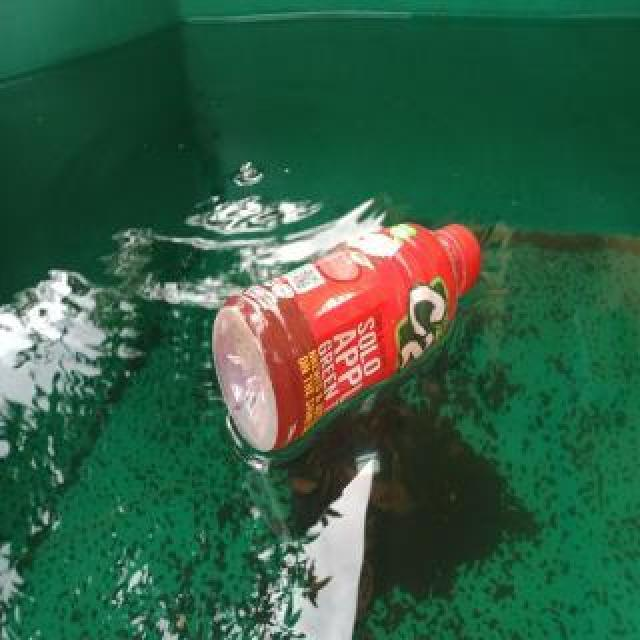bottle: (209, 218, 485, 458)
